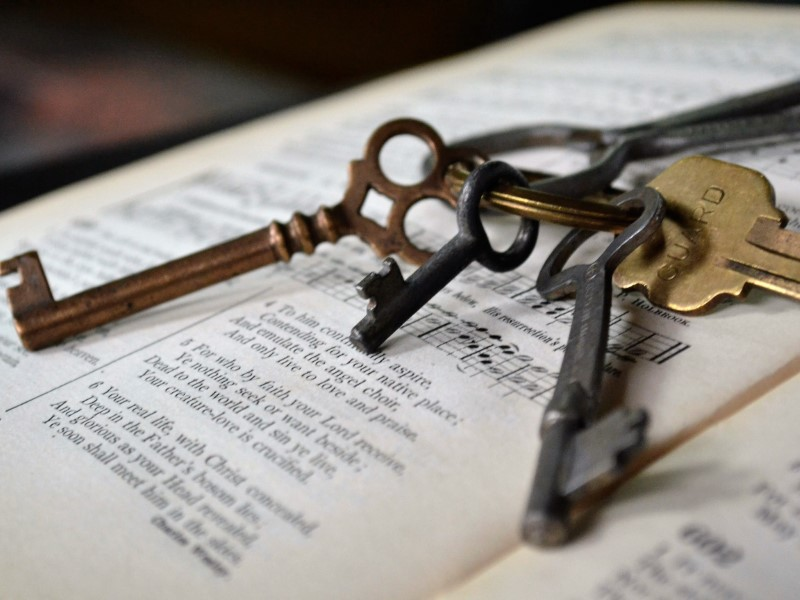key: (2, 107, 471, 355), (515, 182, 659, 552), (349, 160, 544, 364)
